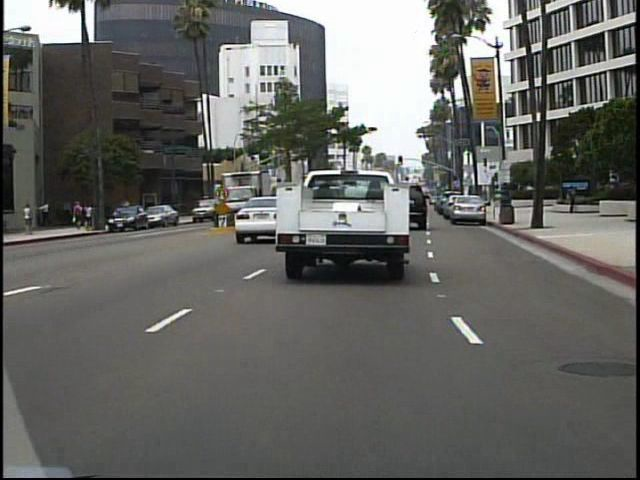person: (24, 199, 37, 238), (564, 182, 578, 215)
